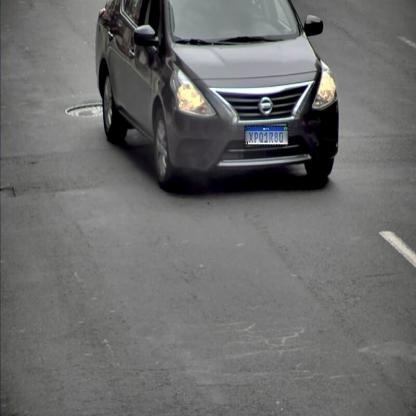PlacaM: (244, 126, 288, 146)
